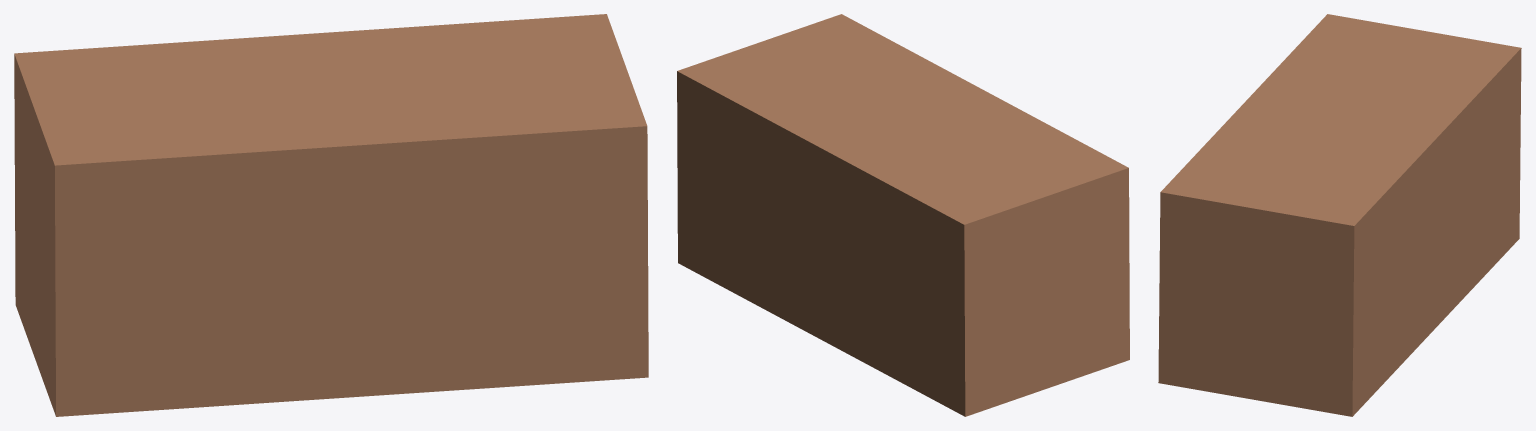
File: GB_Dock_01.fbx
The picture shows the model from 3 angles, left to right: view 1: azimuth 30°, elevation 25°; view 2: azimuth 150°, elevation 25°; view 3: azimuth 270°, elevation 25°; orthographic projection. The views are drawn at different scales.
Parts seen in each view (by area): view 1: Dock_01; view 2: Dock_01; view 3: Dock_01.
Part boxes in pixels (x1,y1,x2,y2): Dock_01: [14, 14, 648, 416]; Dock_01: [677, 14, 1129, 416]; Dock_01: [1158, 14, 1521, 416].
Size of the model in its own units: 340 by 145 by 246.
